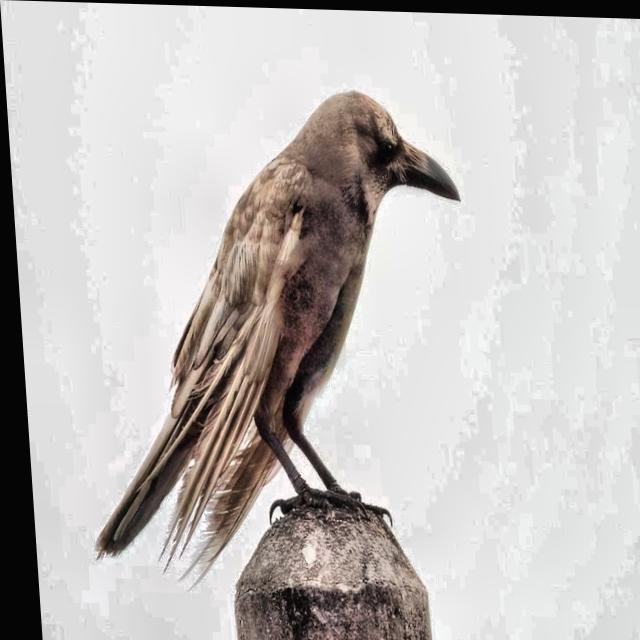crow: (67, 86, 487, 593)
